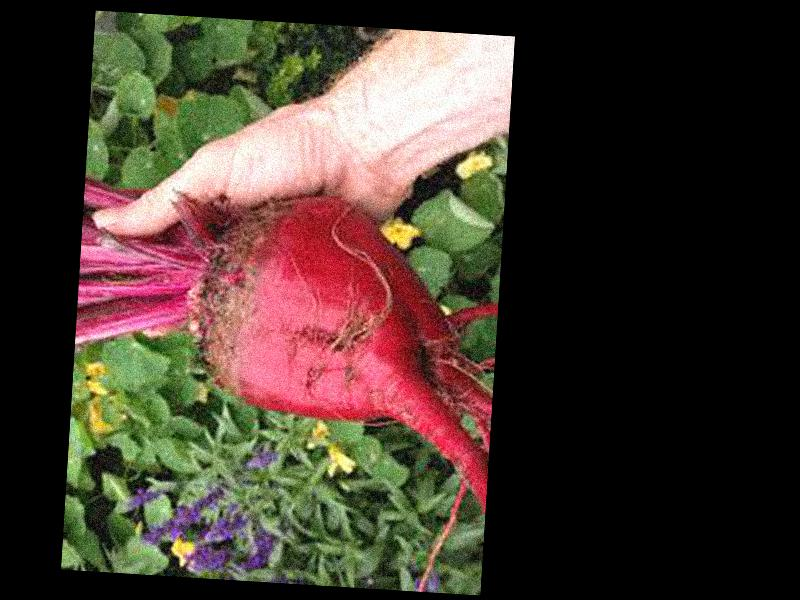Beet: (69, 181, 504, 506)
